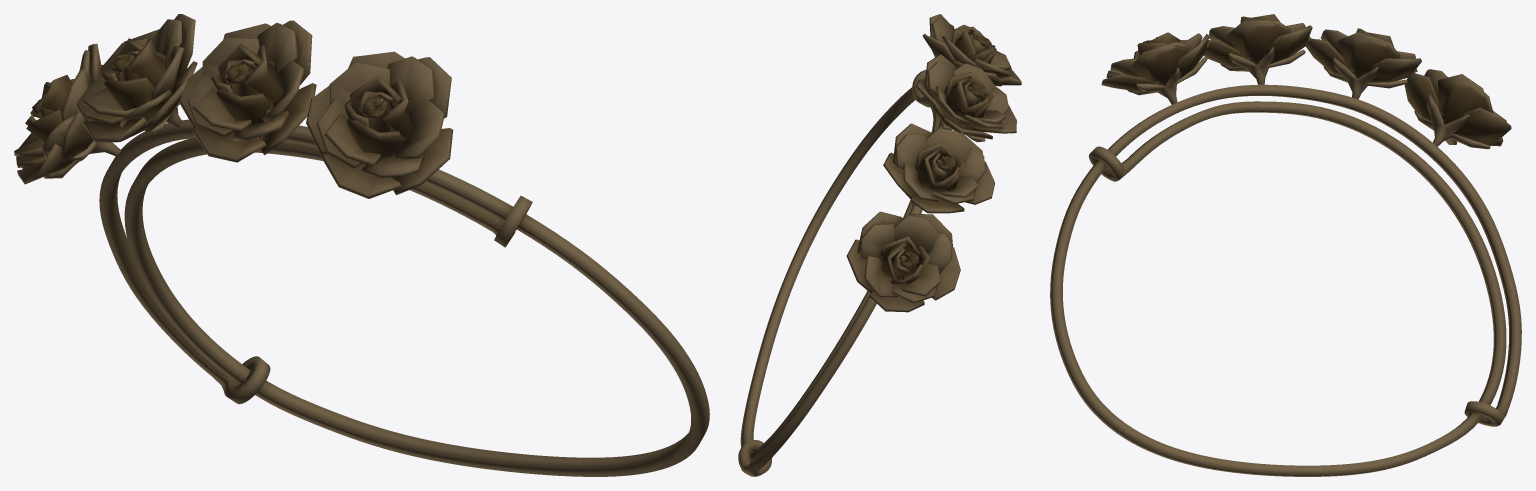
File: Bracalete 1.fbx
The picture shows the model from 3 angles, left to right: view 1: azimuth 30°, elevation 25°; view 2: azimuth 150°, elevation 25°; view 3: azimuth 270°, elevation 25°; orthographic projection. The views are drawn at different scales.
Visible parts, largest first — view 1: Bangle Bracelet_Rose Accessories - Gold_0; view 2: Bangle Bracelet_Rose Accessories - Gold_0; view 3: Bangle Bracelet_Rose Accessories - Gold_0.
Part boxes in pixels (<box>): Bangle Bracelet_Rose Accessories - Gold_0: <box>14,14,709,476</box>; Bangle Bracelet_Rose Accessories - Gold_0: <box>738,14,1021,476</box>; Bangle Bracelet_Rose Accessories - Gold_0: <box>1050,14,1521,476</box>.
Size of the model in its own units: 90.6 by 103 by 114.
1 material, 1 textured.
